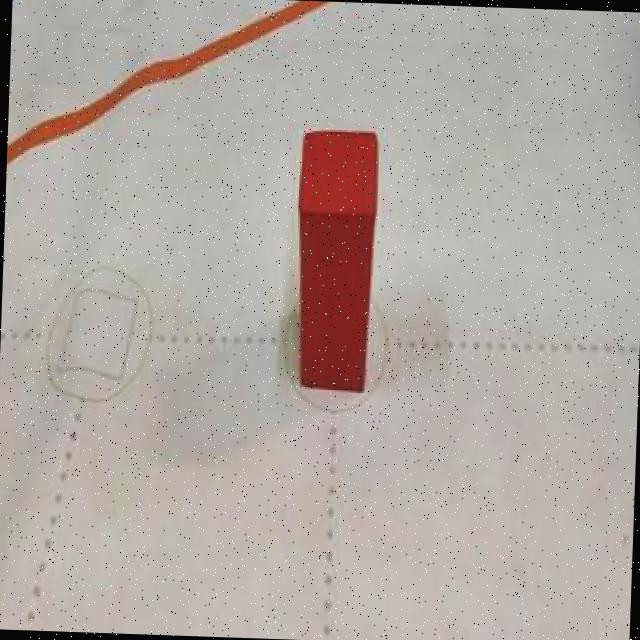redbox: (290, 128, 375, 394)
